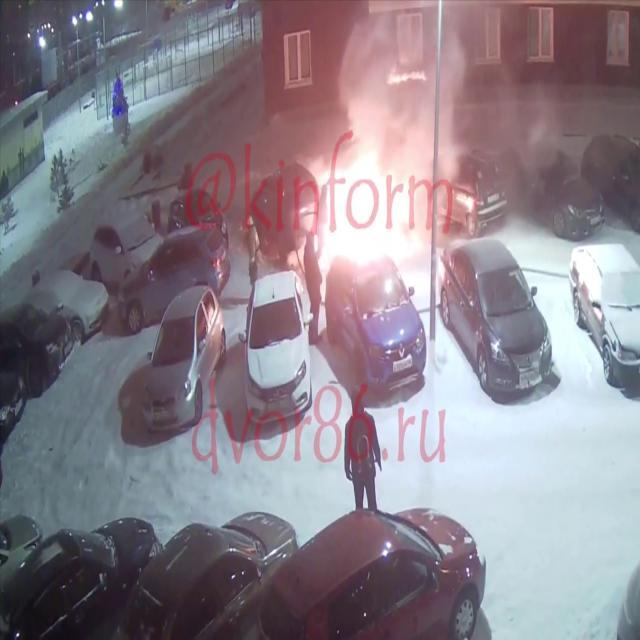Fire: (307, 77, 452, 303)
Smoke: (322, 0, 494, 165)
